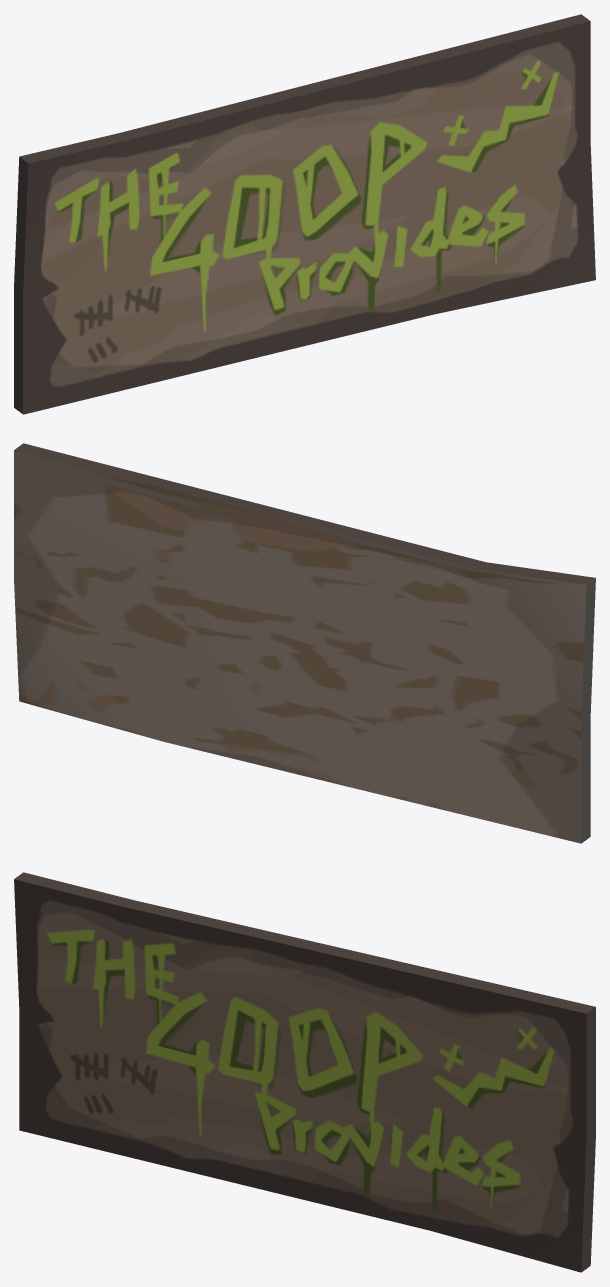
Rendered from SM_Prop_Sign_Custom_03.fbx.
3 renders of one model, top to bottom at view 1: azimuth 30°, elevation 25°; view 2: azimuth 150°, elevation 25°; view 3: azimuth 330°, elevation 25°, orthographic.
Visible parts, largest first — view 1: SM_Prop_Sign_Custom_03; view 2: SM_Prop_Sign_Custom_03; view 3: SM_Prop_Sign_Custom_03.
Boxes of the visible parts, x1,y1,x2,y2 form: SM_Prop_Sign_Custom_03: (14,14,595,414); SM_Prop_Sign_Custom_03: (14,443,595,843); SM_Prop_Sign_Custom_03: (14,872,595,1272).
Size of the model in its own units: 218 by 93.6 by 9.77.
